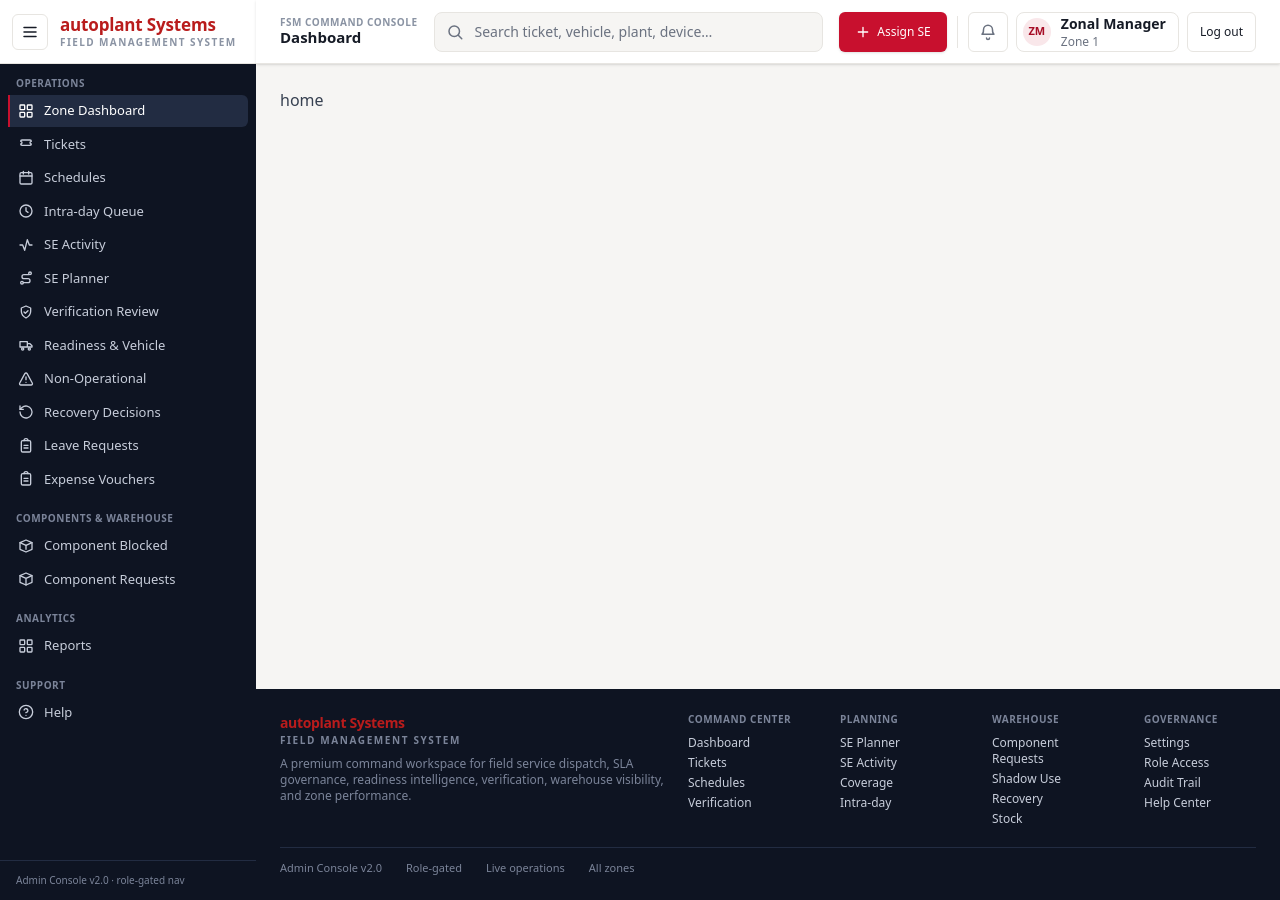
Test: Collapsible sidebar › toggles collapse state and reflects it on aria + data attributes
Click the button named "collapse sidebar": (30, 32) [12,14,48,50]
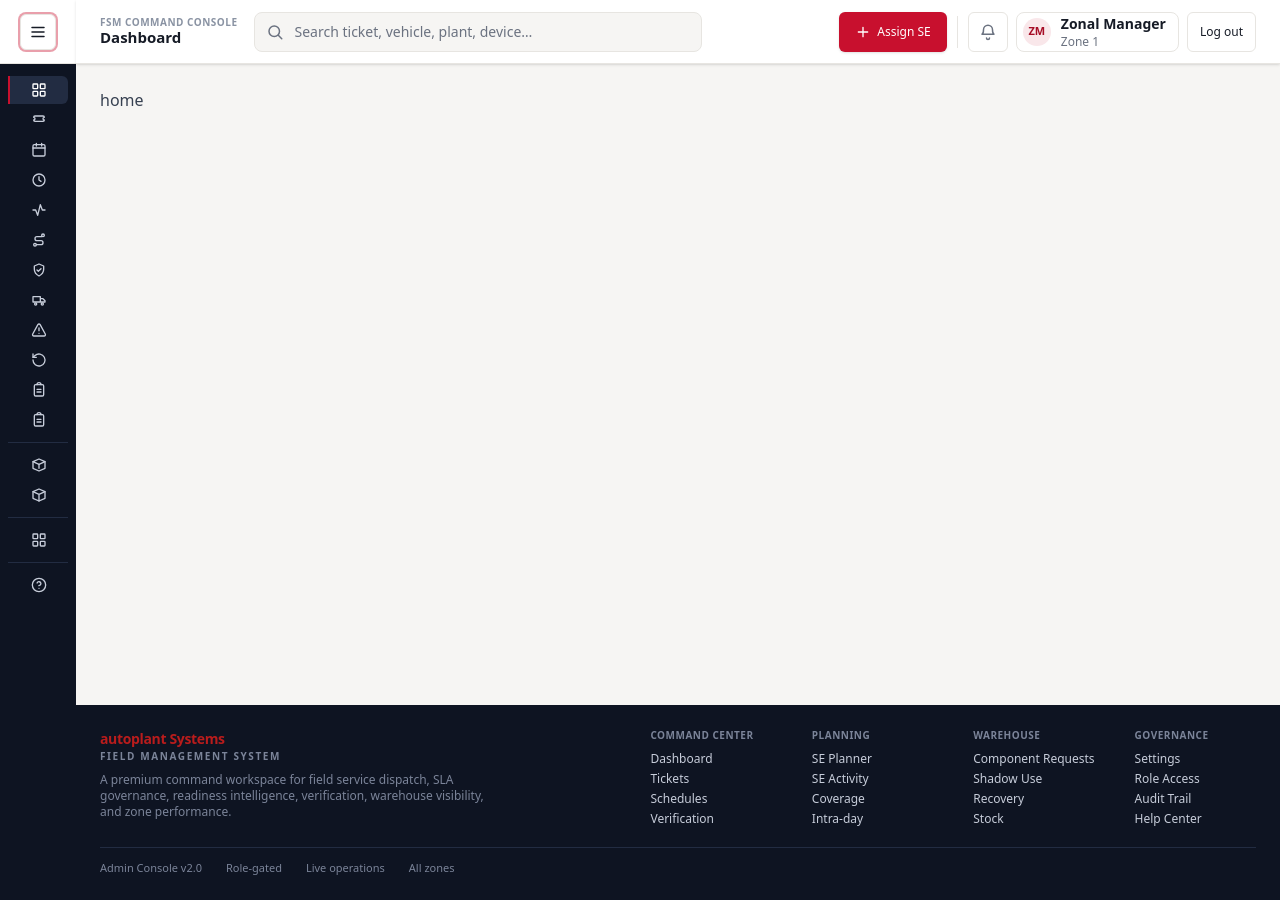
expect the button named "expand sidebar" is collapsed: met, box [20,14,56,50]
